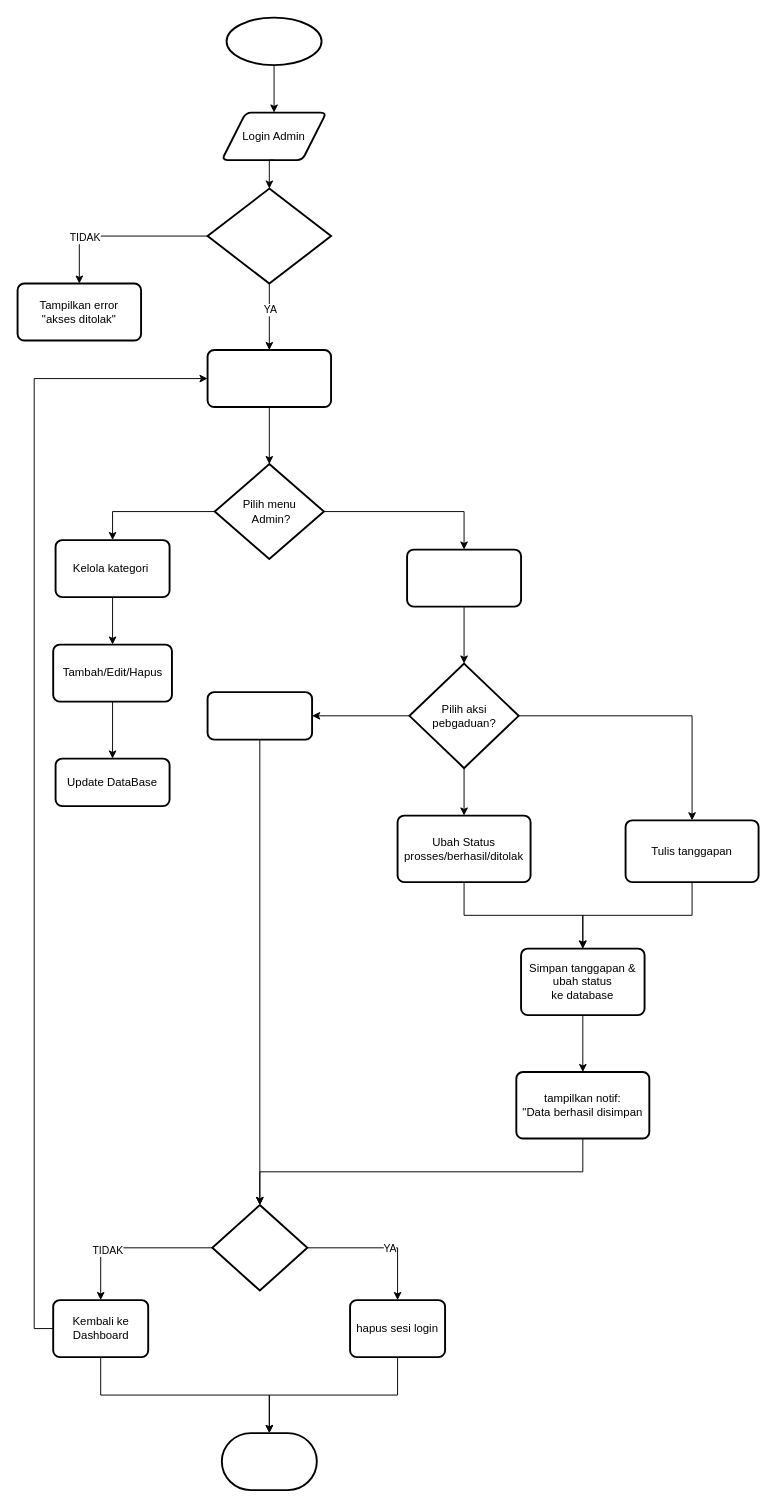
The diagram is 775 pixels wide and 1507 high, and some of its shapes have lost their labels. The shapes that lost their labels are listed below. From the top down, each one's box as (x1, y1, x2, y2) in pixels, then its label:
(225, 16, 322, 66): Mulai
(206, 187, 332, 284): Validasi Role Admin?
(206, 349, 332, 408): Dashboard Admin
(406, 548, 522, 607): Kelola daftar pengaduan
(206, 691, 313, 740): Lihat Detail
(211, 1204, 308, 1291): Pilih Logou?t
(220, 1432, 317, 1491): Selesai
